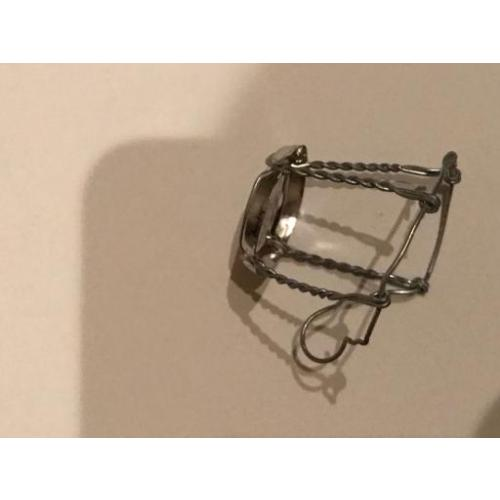metal: (236, 142, 310, 279)
